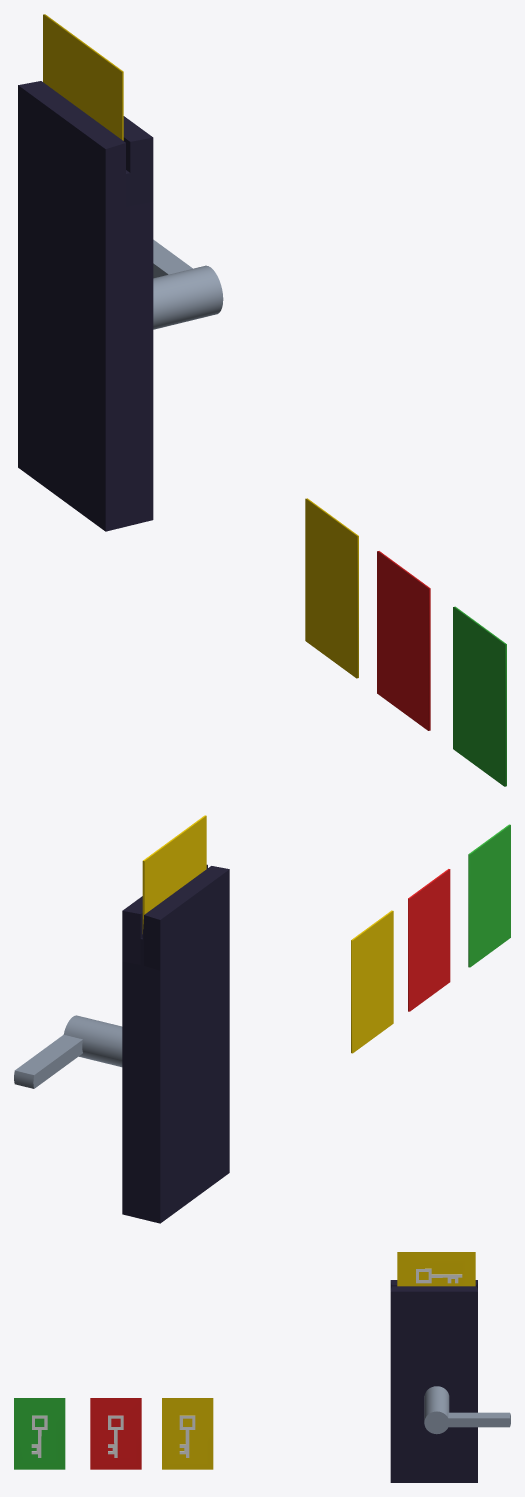
The model's file is tarjetas.fbx.
3 renders of one model, top to bottom at view 1: azimuth 30°, elevation 25°; view 2: azimuth 150°, elevation 25°; view 3: azimuth 270°, elevation 25°, orthographic. The views are drawn at different scales.
Visible parts, largest first — view 1: Cubo, Cube, Cube.002, Cube.001, Cube.003, Cilindro; view 2: Cubo, Cube, Cube.001, Cube.002, Cilindro, Cube.003; view 3: Cubo, Cube, Cube.001, Cube.002, Cube.003, Cilindro.
Part boxes in pixels (x1=…): Cubo: x1=18, y1=81, x2=153, y2=531; Cube: x1=453, y1=606, x2=506, y2=786; Cube.002: x1=305, y1=498, x2=358, y2=678; Cube.001: x1=377, y1=551, x2=430, y2=730; Cube.003: x1=43, y1=14, x2=123, y2=140; Cilindro: x1=153, y1=239, x2=223, y2=329; Cubo: x1=122, y1=864, x2=229, y2=1223; Cube: x1=468, y1=824, x2=510, y2=967; Cube.001: x1=408, y1=869, x2=450, y2=1011; Cube.002: x1=351, y1=910, x2=393, y2=1053; Cilindro: x1=14, y1=1015, x2=122, y2=1088; Cube.003: x1=142, y1=815, x2=206, y2=933; Cubo: x1=390, y1=1280, x2=477, y2=1482; Cube: x1=14, y1=1398, x2=65, y2=1469; Cube.001: x1=90, y1=1398, x2=141, y2=1469; Cube.002: x1=162, y1=1398, x2=213, y2=1469; Cube.003: x1=397, y1=1252, x2=475, y2=1286; Cilindro: x1=424, y1=1386, x2=510, y2=1434.
Size of the model in its own units: 512 by 1452 by 2912.
